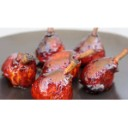chicken_lollipop: (83, 50, 128, 92), (29, 66, 79, 101), (3, 52, 40, 87), (76, 28, 108, 62), (37, 29, 66, 63)
